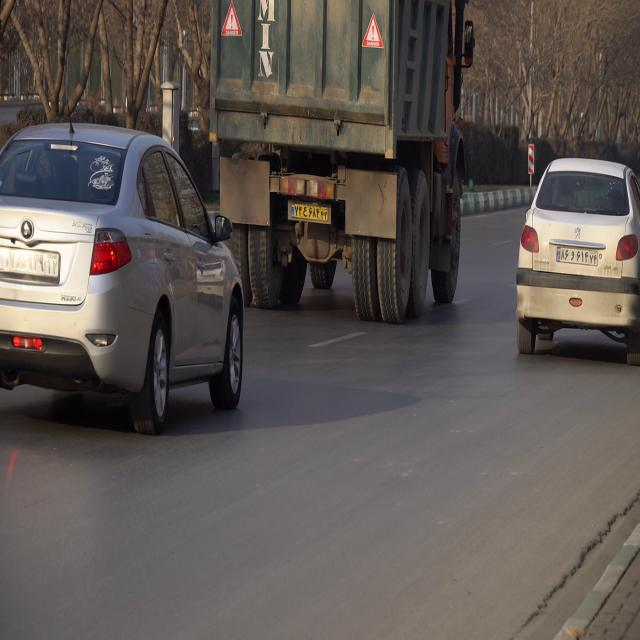car: (0, 119, 246, 429), (514, 159, 637, 352)
truck: (210, 0, 474, 312)
